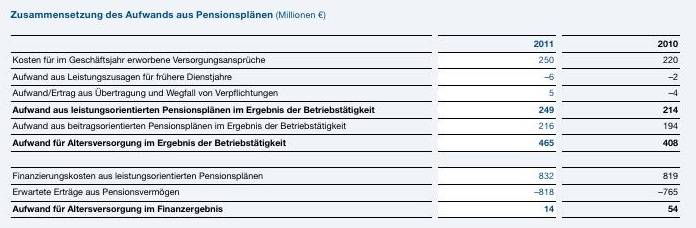table: (0, 0, 696, 228)
